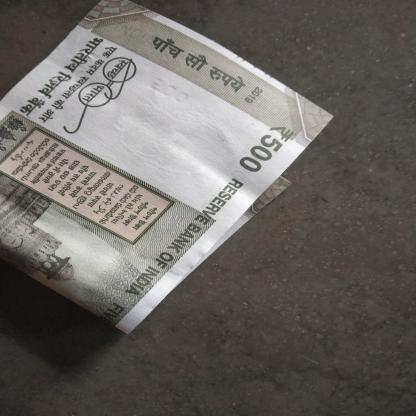New500Back: (0, 0, 303, 328)
